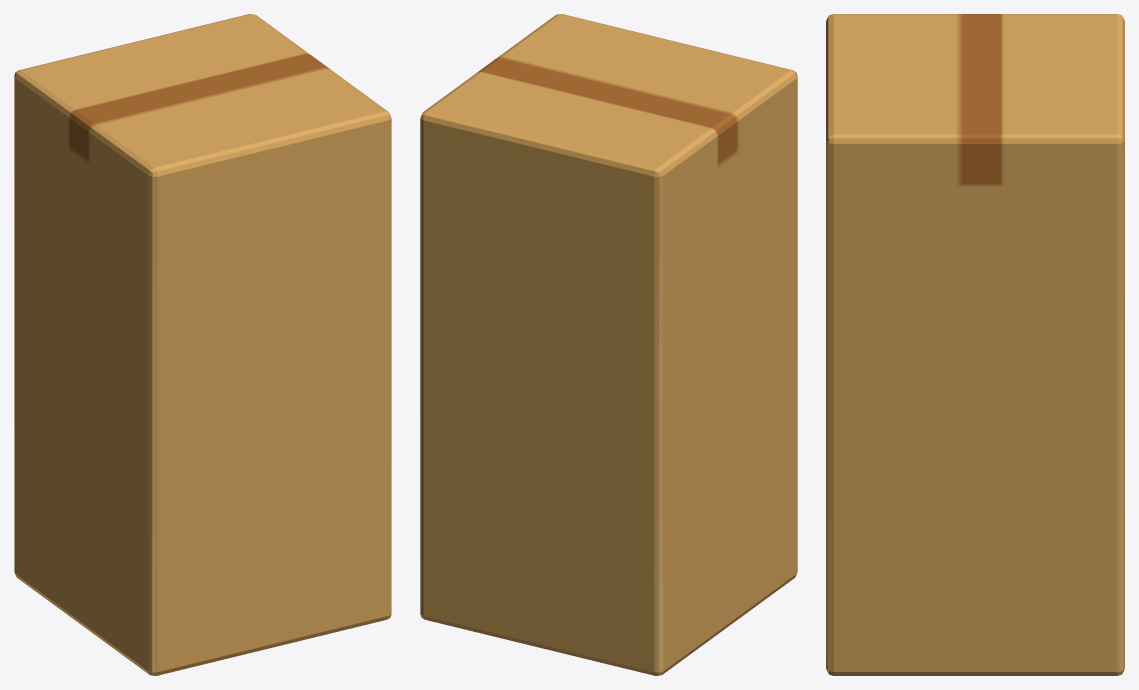
File: Y2BoxCardboard.fbx
3 views of the same model, side by side, from view 1: azimuth 30°, elevation 25°; view 2: azimuth 150°, elevation 25°; view 3: azimuth 270°, elevation 25° (orthographic). The views are drawn at different scales.
Visible parts, largest first — view 1: dan2; view 2: dan2; view 3: dan2.
Boxes of the visible parts, x1=… form: dan2: x1=14, y1=14, x2=391, y2=675; dan2: x1=420, y1=14, x2=797, y2=675; dan2: x1=826, y1=14, x2=1124, y2=675.
Bounding box in the file's own units: 1 × 2 × 1.
Materials: 1 (1 with a texture image).
